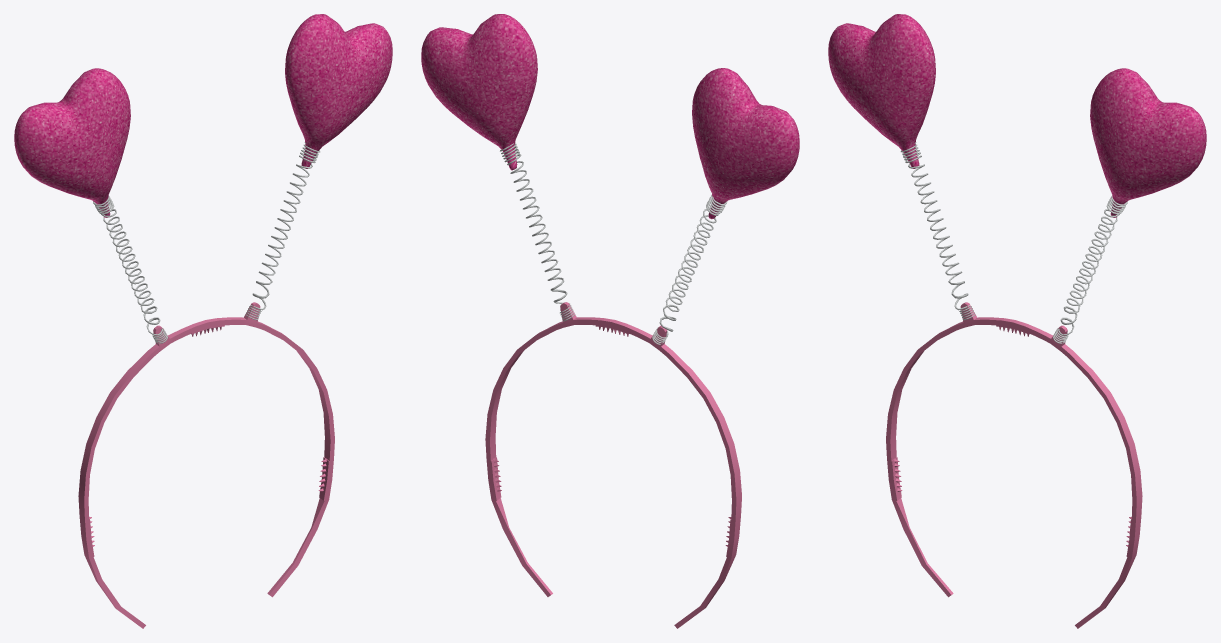
The model's file is heart_headband.obj.
3 renders of one model, left to right at view 1: azimuth 30°, elevation 25°; view 2: azimuth 150°, elevation 25°; view 3: azimuth 330°, elevation 25°, orthographic.
Parts seen in each view (by area): view 1: hair_band_2:hair_band:pPyramid17; view 2: hair_band_2:hair_band:pPyramid17; view 3: hair_band_2:hair_band:pPyramid17.
Boxes of the visible parts, <box> form: hair_band_2:hair_band:pPyramid17: <box>14,14,392,628</box>; hair_band_2:hair_band:pPyramid17: <box>421,14,799,628</box>; hair_band_2:hair_band:pPyramid17: <box>828,14,1206,628</box>.
Bounding box in the file's own units: 1.75 × 2.54 × 0.2232.
1 material, 1 textured.
